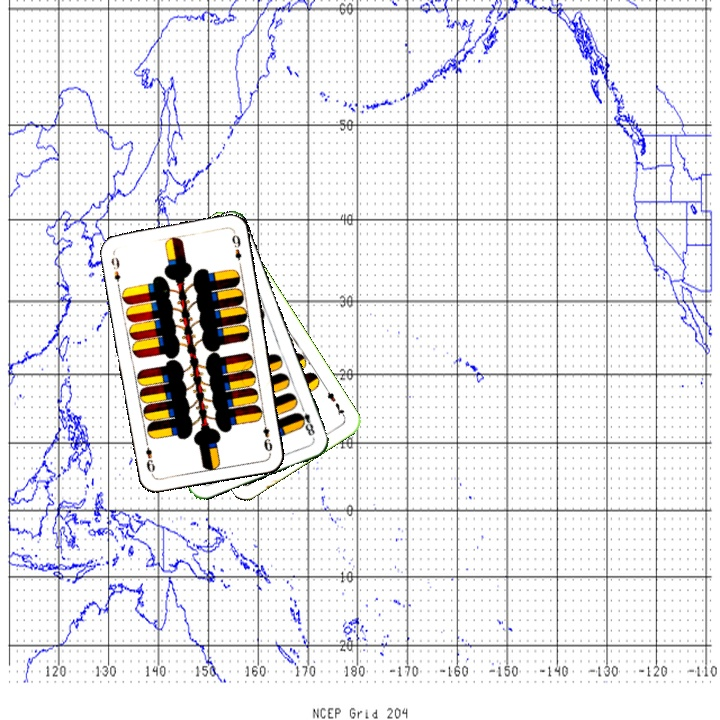E7: (321, 384, 348, 420)
E8: (293, 402, 317, 441)
E9: (259, 415, 275, 456), (107, 253, 123, 284)
